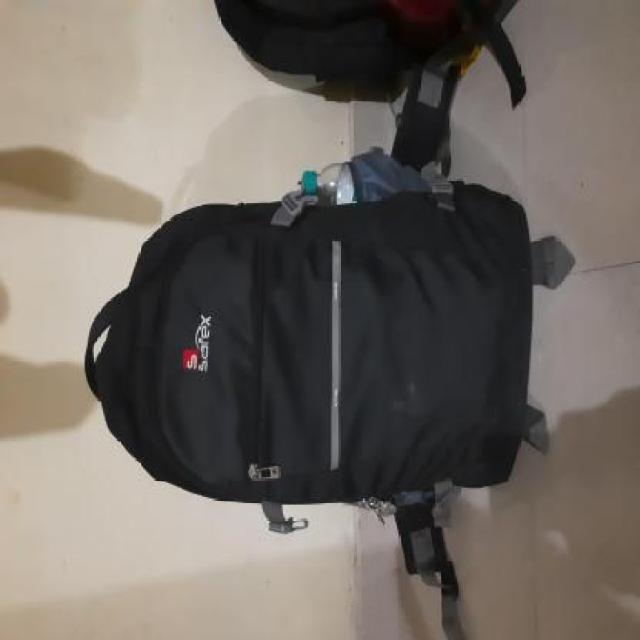backpack: (82, 143, 546, 597)
